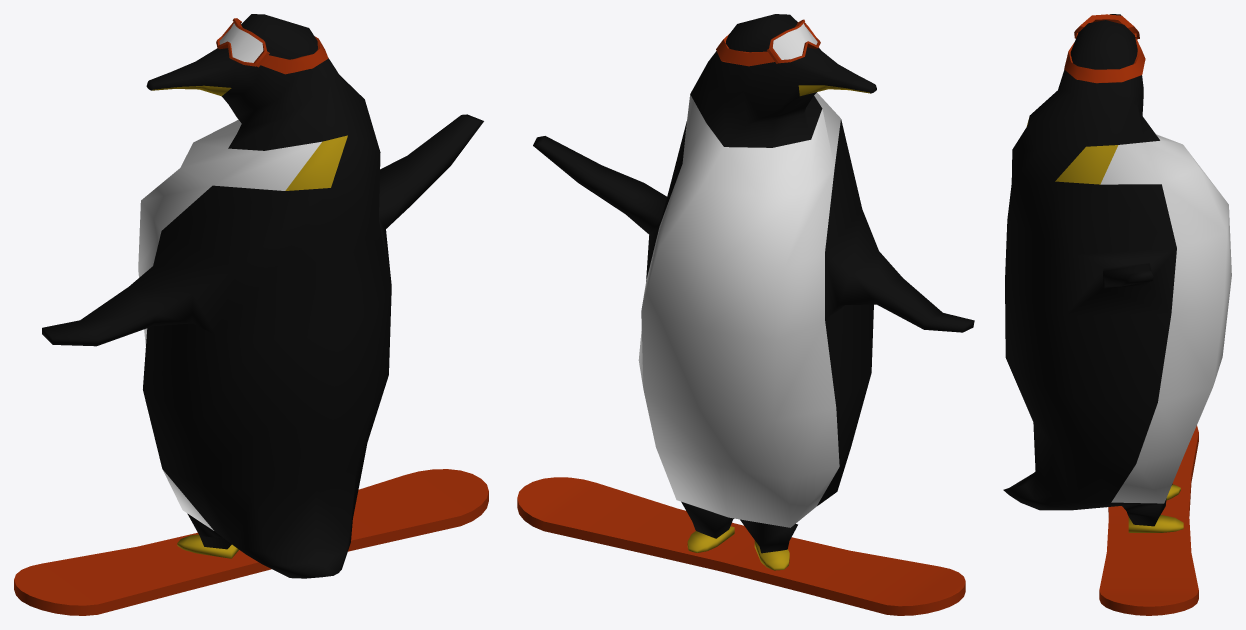
File: PenguinSnowboard.FBX
The picture shows the model from 3 angles, left to right: view 1: azimuth 30°, elevation 25°; view 2: azimuth 150°, elevation 25°; view 3: azimuth 270°, elevation 25°; orthographic projection. The views are drawn at different scales.
Visible parts, largest first — view 1: Capsule001; view 2: Capsule001; view 3: Capsule001.
Boxes of the visible parts, x1=… form: Capsule001: x1=14, y1=14, x2=488, y2=615; Capsule001: x1=517, y1=14, x2=974, y2=615; Capsule001: x1=1003, y1=14, x2=1231, y2=615.
Bounding box in the file's own units: 48.85 × 56.7 × 23.65.
